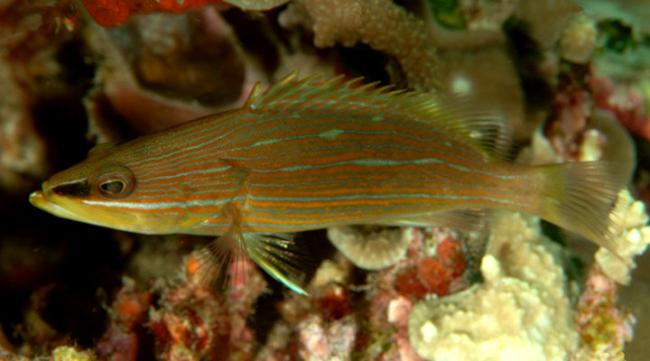fish: (30, 74, 623, 300)
